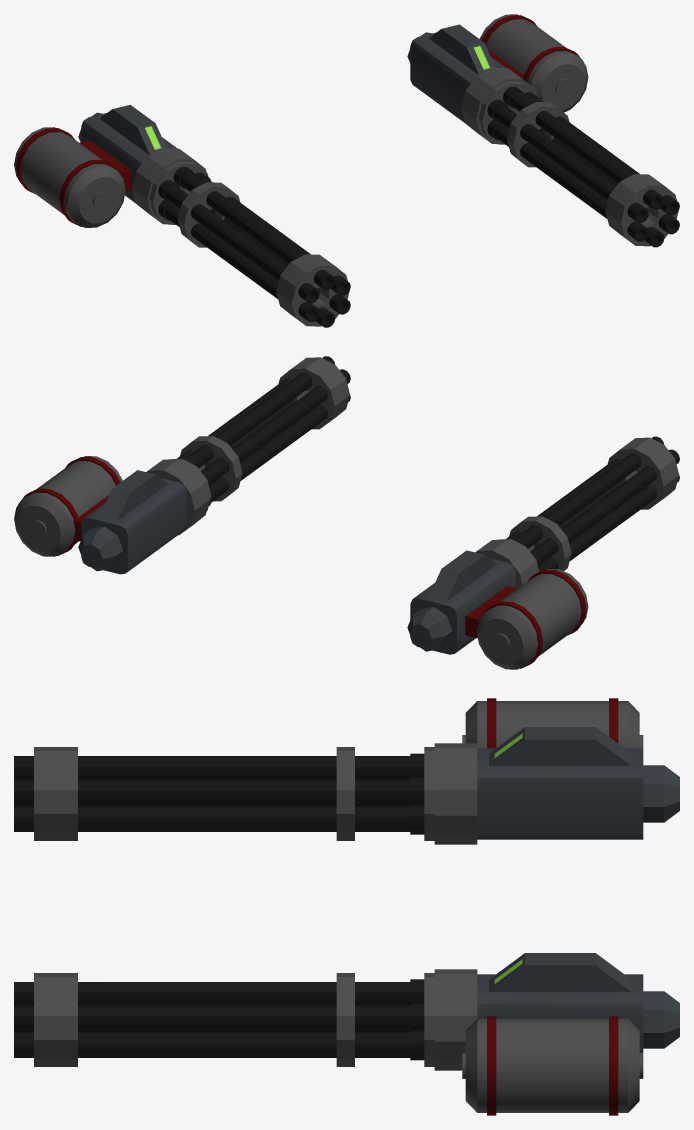
Rendered from TankWeapon_MachineGun 1.fbx.
3 renders of one model, top to bottom at view 1: azimuth 30°, elevation 25°; view 2: azimuth 150°, elevation 25°; view 3: azimuth 270°, elevation 25°, orthographic. The views are drawn at different scales.
Visible parts, largest first — view 1: GatlingGun, Gatling_R, Gatling_L; view 2: GatlingGun, Gatling_L, Gatling_R; view 3: GatlingGun, Gatling_R, Gatling_L.
Boxes of the visible parts, bbox=[...] form: GatlingGun: bbox=[14, 14, 588, 227]; Gatling_R: bbox=[132, 148, 350, 327]; Gatling_L: bbox=[461, 67, 679, 247]; GatlingGun: bbox=[14, 456, 588, 669]; Gatling_L: bbox=[146, 356, 350, 535]; Gatling_R: bbox=[475, 436, 679, 588]; GatlingGun: bbox=[462, 698, 679, 1115]; Gatling_R: bbox=[14, 743, 477, 844]; Gatling_L: bbox=[14, 969, 477, 1070].
Bounding box in the file's own units: 72.68 × 10.07 × 56.87.
